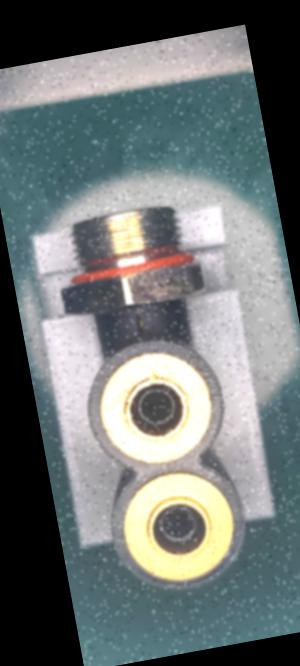craze: (125, 302, 151, 343)
